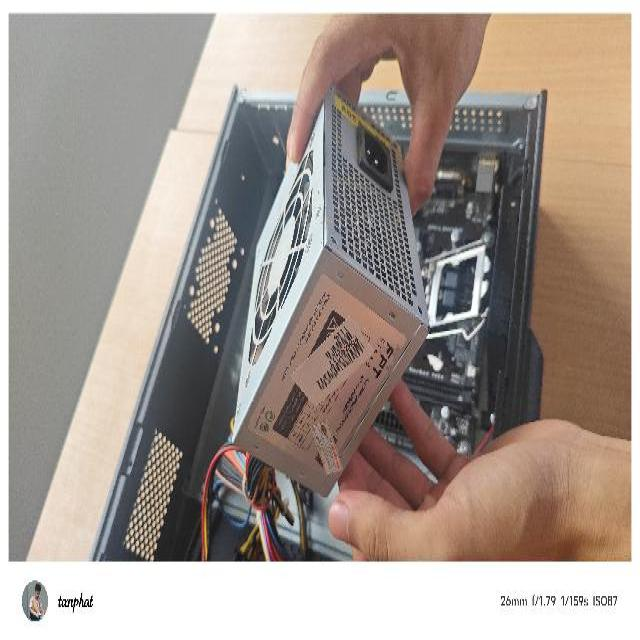PSU: (230, 80, 432, 497)
